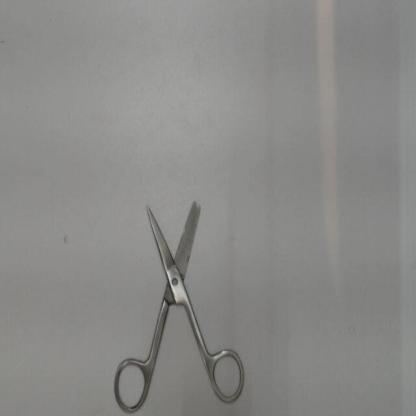Dressing Scissors: (107, 182, 252, 415)
